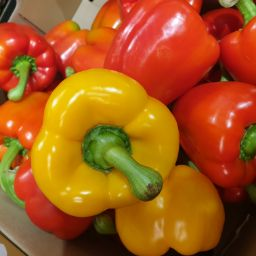Bell pepper: (105, 65, 256, 253), (20, 65, 192, 225), (88, 1, 256, 117), (1, 91, 108, 242), (1, 17, 62, 103)
